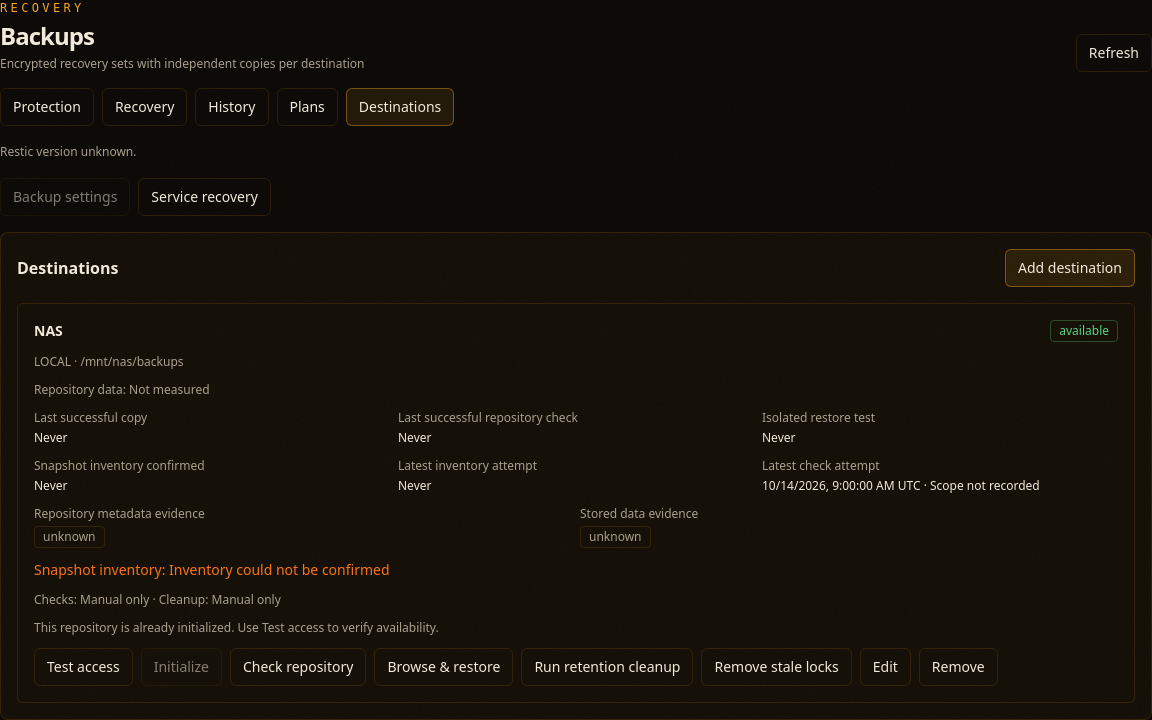
Backup workflow round two regressions › uses the configured check policy and disables initialization for an available repository
Expected: the button "Initialize" is disabled, x1=141 y1=648 x2=222 y2=686
Expected: the text "Snapshot inventory: Inventory could not be confirmed" is shown, x1=34 y1=560 x2=390 y2=579
Click the button "Check repository".
click(298, 667)  # box x1=230 y1=648 x2=366 y2=686
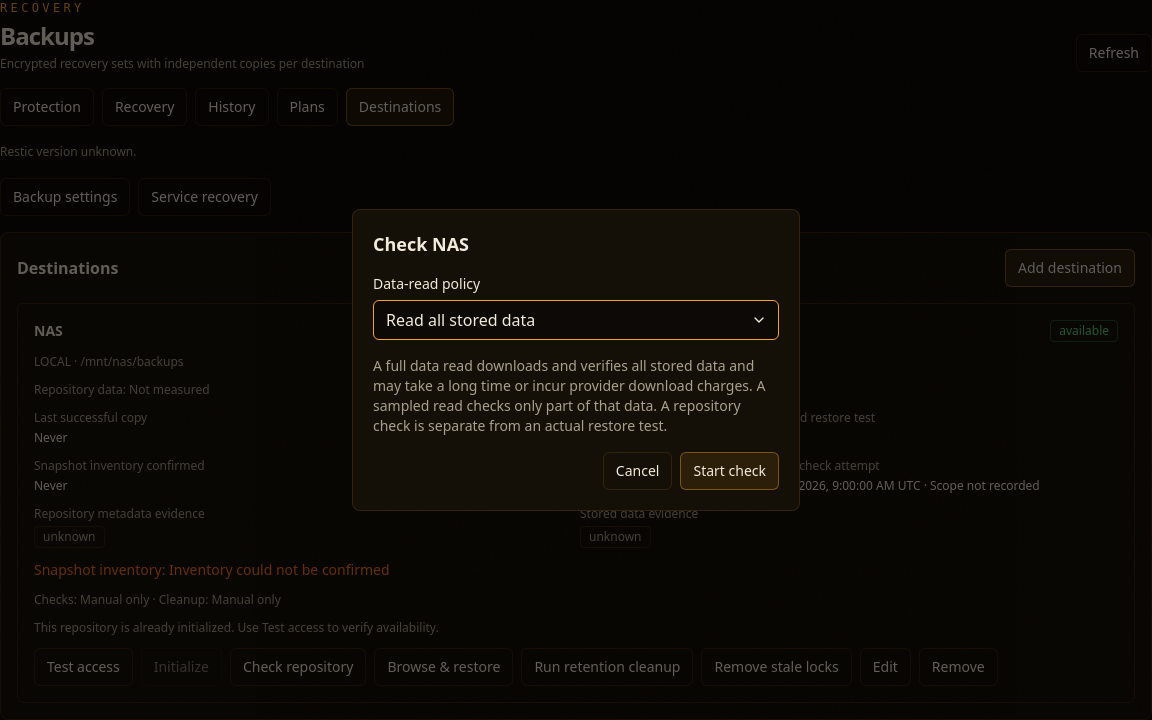
Expected: the dropdown labelled "Data-read policy" shows "Read all stored data", x1=373 y1=300 x2=779 y2=340
